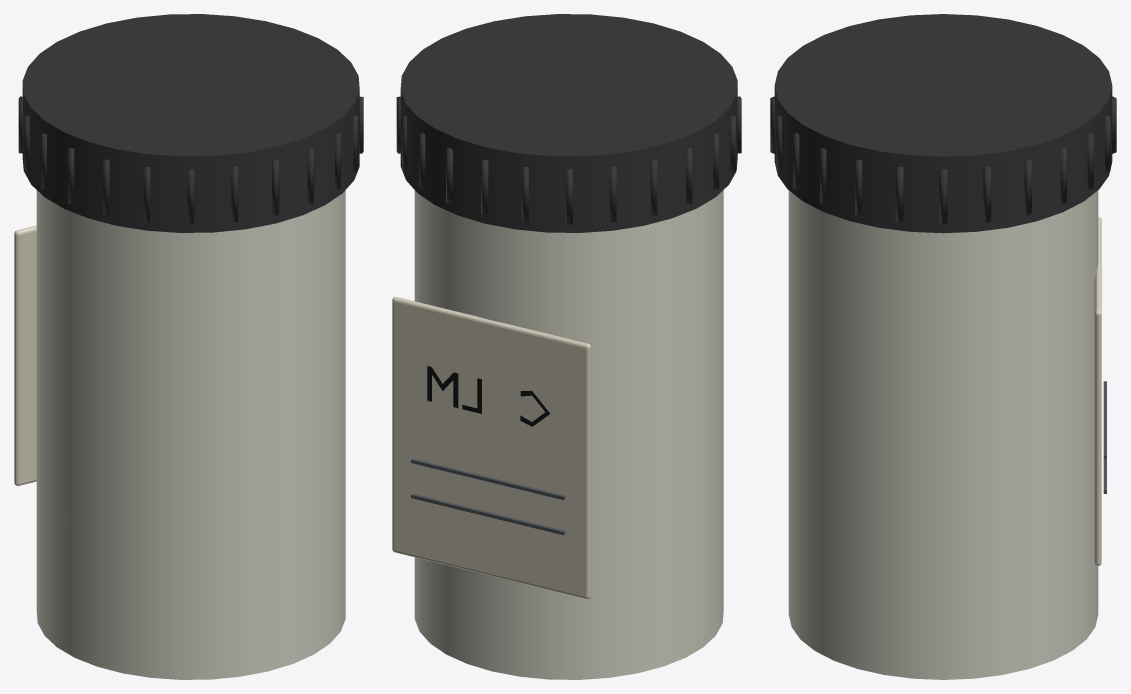
Rendered from sedative.glb.
3 views of the same model, side by side, from view 1: azimuth 30°, elevation 25°; view 2: azimuth 150°, elevation 25°; view 3: azimuth 270°, elevation 25° (orthographic).
Visible parts, largest first — view 1: sedative; view 2: sedative; view 3: sedative.
Part boxes in pixels (x1,y1,x2,y2): sedative: [14, 14, 363, 679]; sedative: [392, 14, 741, 679]; sedative: [770, 14, 1116, 679].
Size of the model in its own units: 0.0984 by 0.166 by 0.0984.
